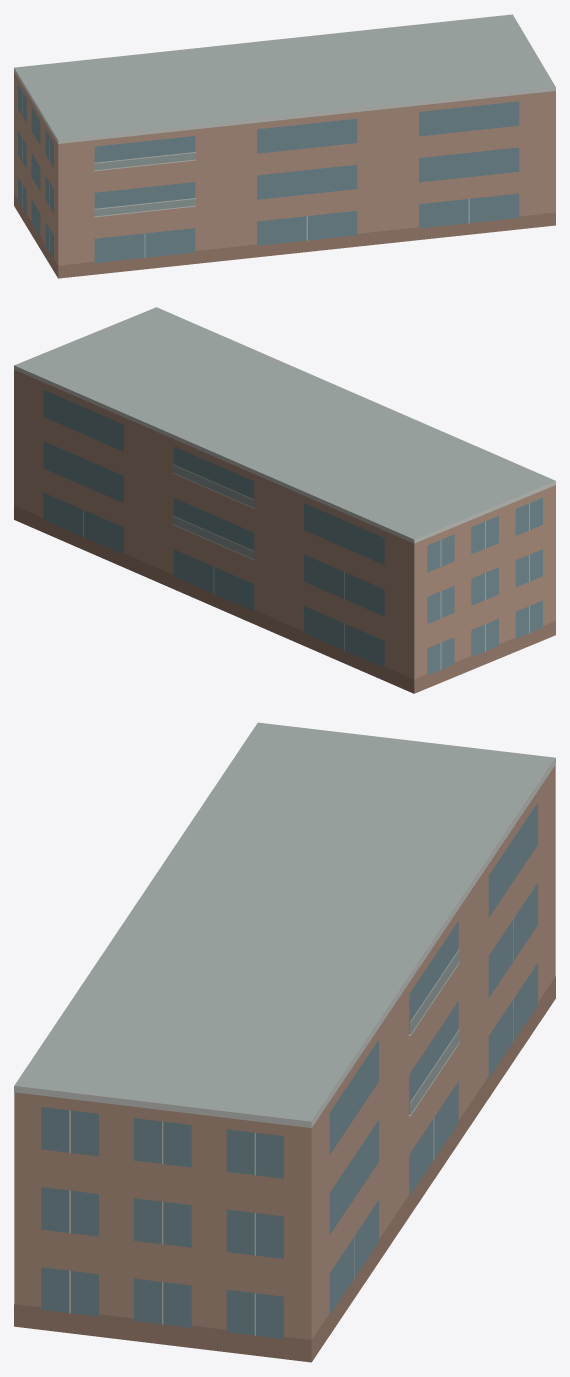
Rendered from survey-upis-32564939.glb.
3 renders of one model, top to bottom at view 1: azimuth 30°, elevation 25°; view 2: azimuth 150°, elevation 25°; view 3: azimuth 270°, elevation 25°, orthographic. The views are drawn at different scales.
Visible parts, largest first — view 1: survey-upis-32564939.tmp; view 2: survey-upis-32564939.tmp; view 3: survey-upis-32564939.tmp.
Boxes of the visible parts, left/top/right/bottom form: survey-upis-32564939.tmp: left=14, top=14, right=555, bottom=278; survey-upis-32564939.tmp: left=14, top=307, right=555, bottom=693; survey-upis-32564939.tmp: left=14, top=722, right=555, bottom=1362.
Bounding box in the file's own units: 32.56 × 9.15 × 18.68.
